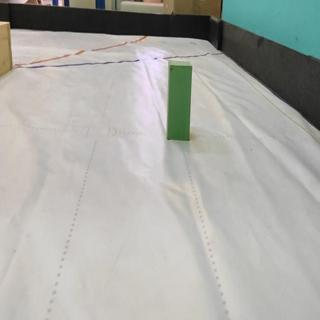greenbox: (167, 61, 193, 141)
